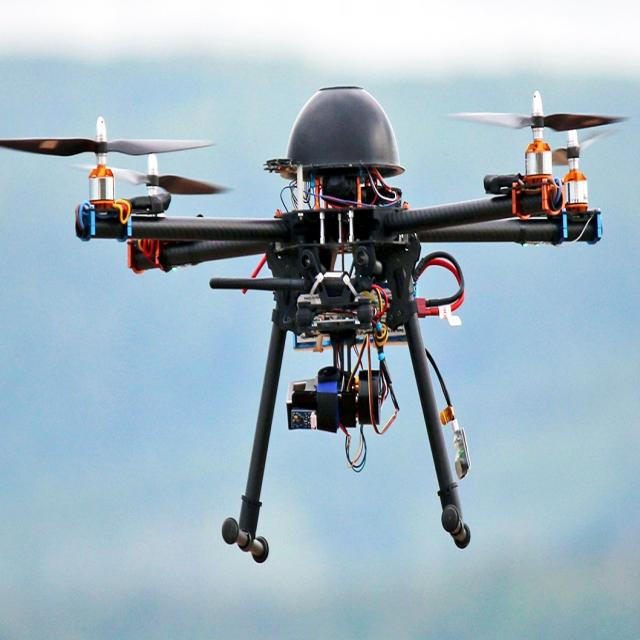drone: (0, 29, 637, 602)
